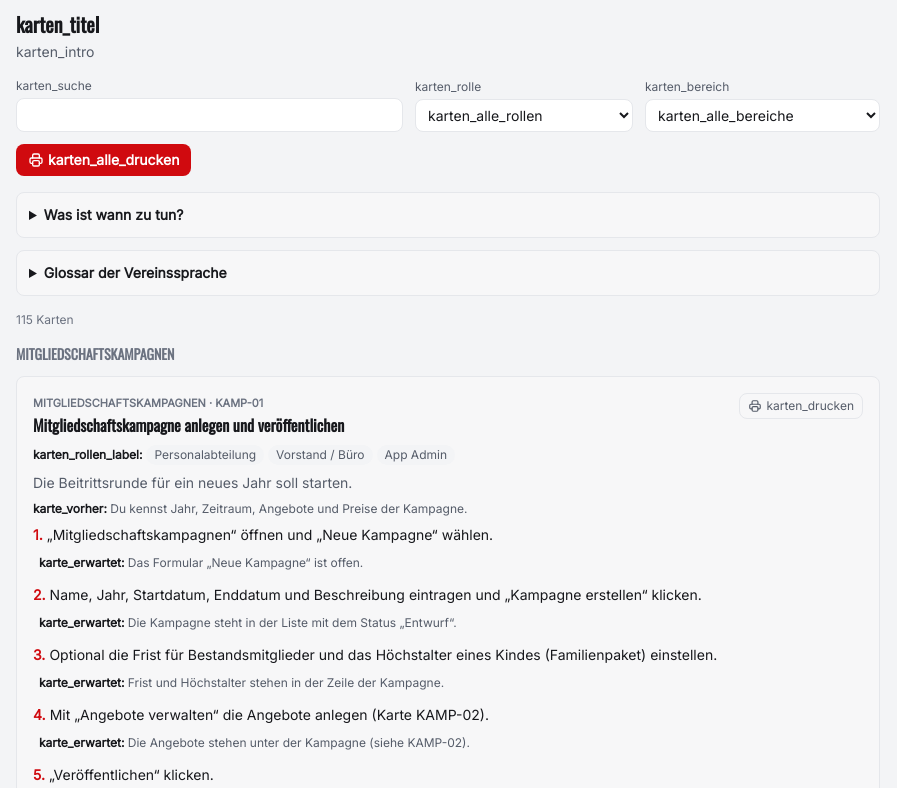
Test: AufgabenkartenPage › zeigt bei gewählter Rolle den Einstieg und springt zur Karte
Select "Finanzdirektor" in the dropdown labelled "karten_rolle": (524, 116) x1=415 y1=99 x2=633 y2=132
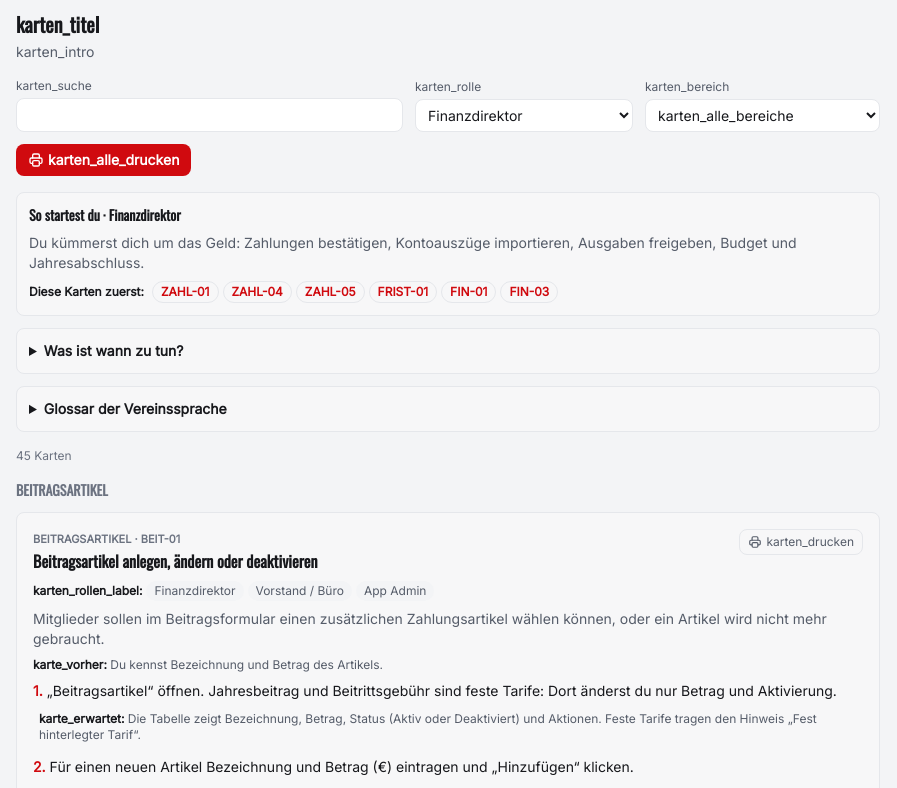
Expected: the text "Du kümmerst dich um das Geld" is shown, x1=29 y1=234 x2=797 y2=271
Click the button "ZAHL-04": (257, 292) x1=222 y1=281 x2=292 y2=303
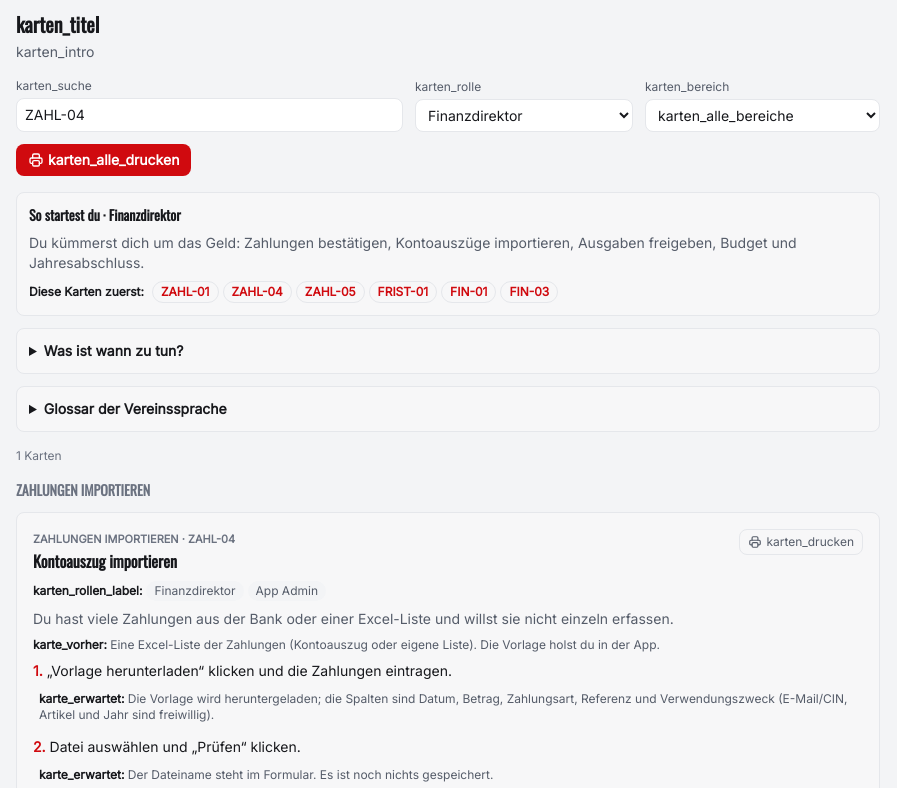
Expected: the heading "Kontoauszug importieren" is shown, x1=33 y1=549 x2=177 y2=573
Expected: the search field labelled "karten_suche" holds "ZAHL-04", x1=16 y1=98 x2=403 y2=132
